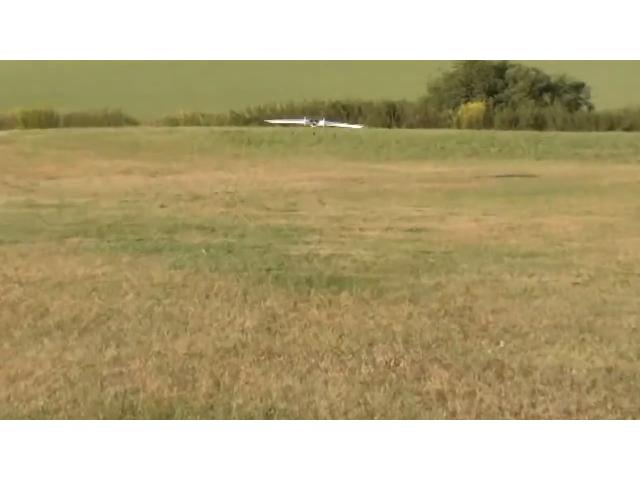Anti-Drone: (256, 108, 374, 144)
